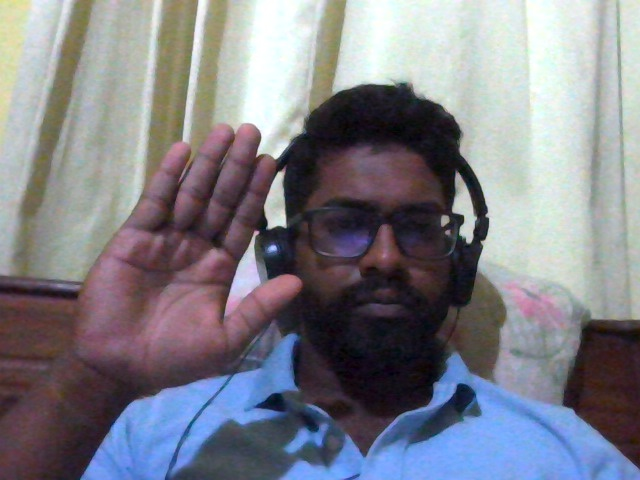Hello: (49, 110, 320, 410)
